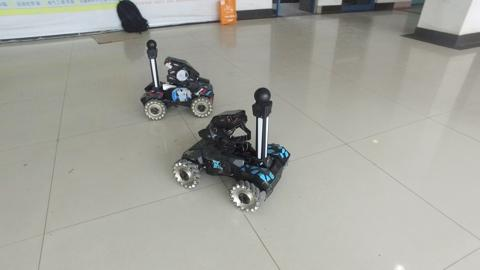chariot: (161, 82, 295, 213), (129, 39, 220, 124)
